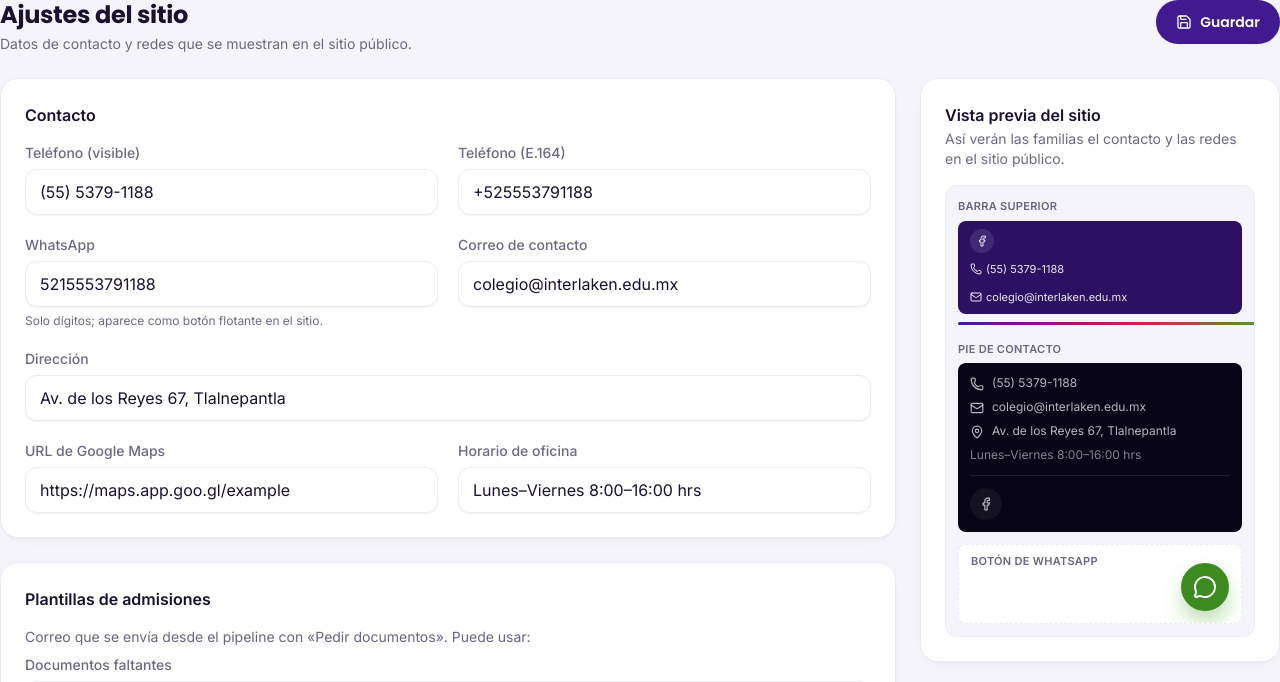
Test: AdminSettings (CMS preview + density) › clears the unsaved banner after a successful save
Type "9" into the field labelled "WhatsApp" at {"x": 232, "y": 284}, box [25,261,438,307]
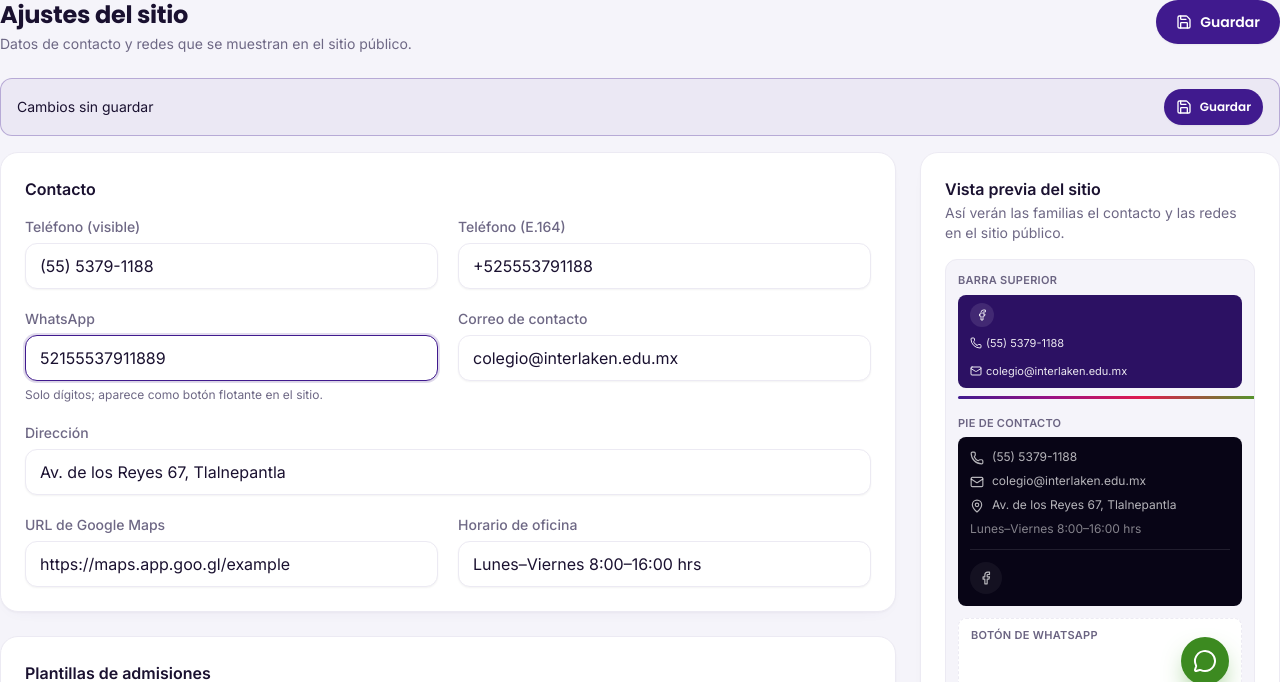
Result: the text "Cambios sin guardar" is shown at [17,97,154,117]
Click the button "Guardar" in the row of "Ajustes del sitio" at {"x": 1218, "y": 22}, box [1156,0,1279,44]
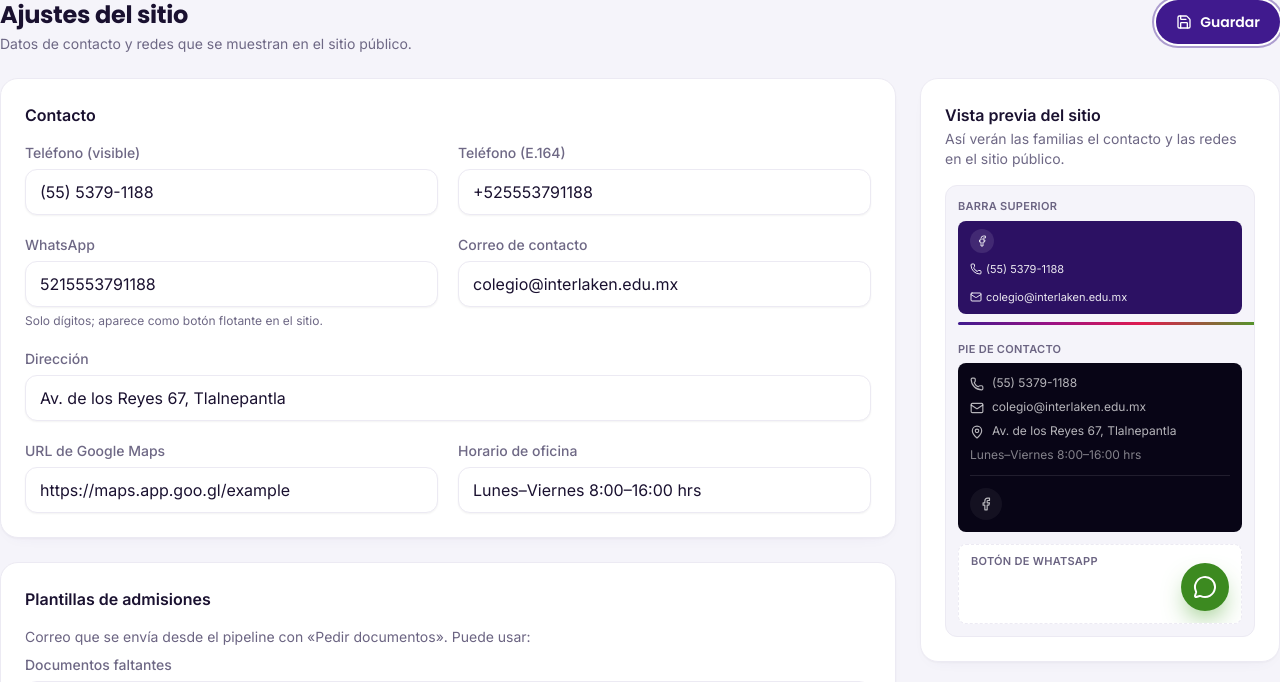
Result: the text "Cambios sin guardar" is gone
